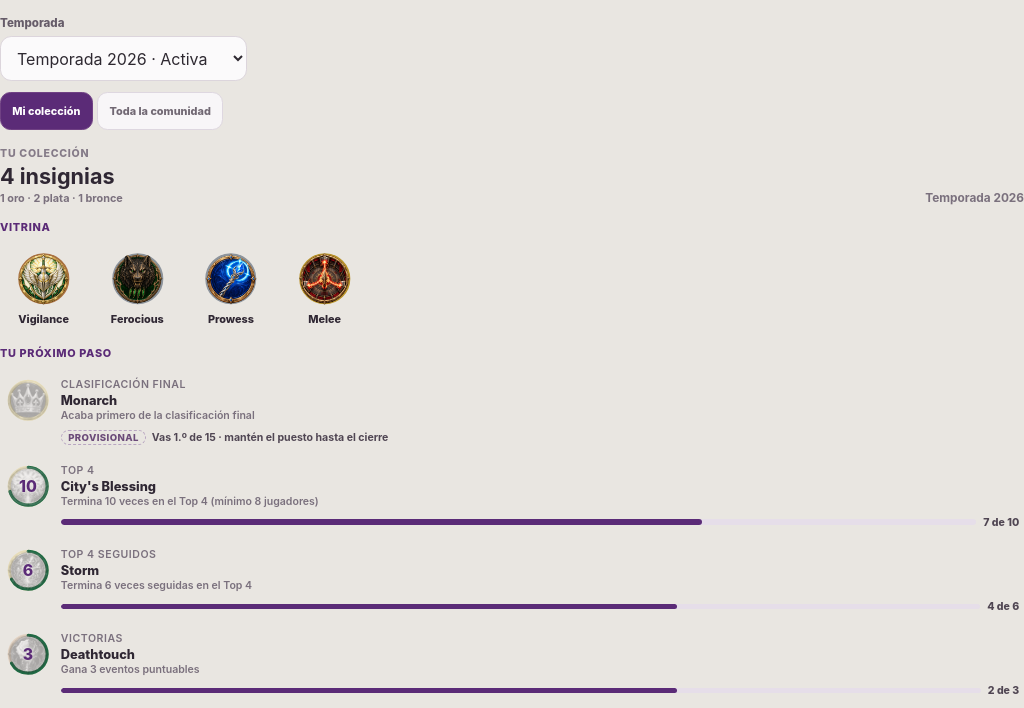
Scenario: SeasonBadgesPanel community view › switches from my collection to who has what
The image size is (1024, 708).
Check: the text "Tu colección" is shown, box [0,147,89,160]
Click the button "Toda la comunidad".
click(160, 111)  # box [97,92,223,130]
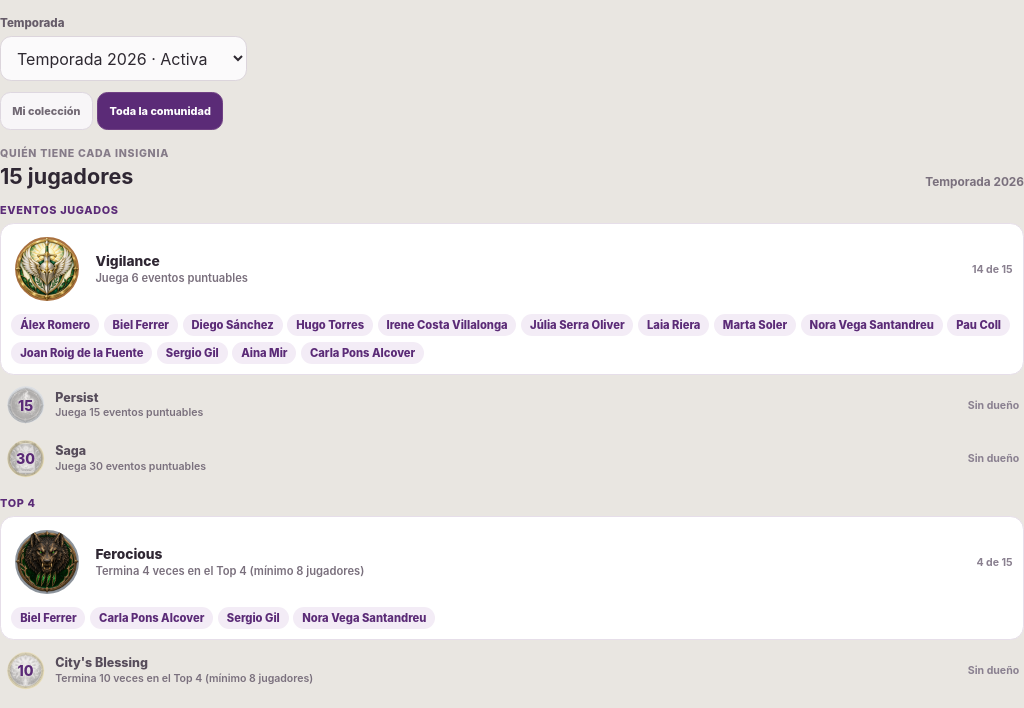
Check: the text "Quién tiene cada insignia" is shown, box [0,147,169,160]
Check: the text "Tu colección" is gone
